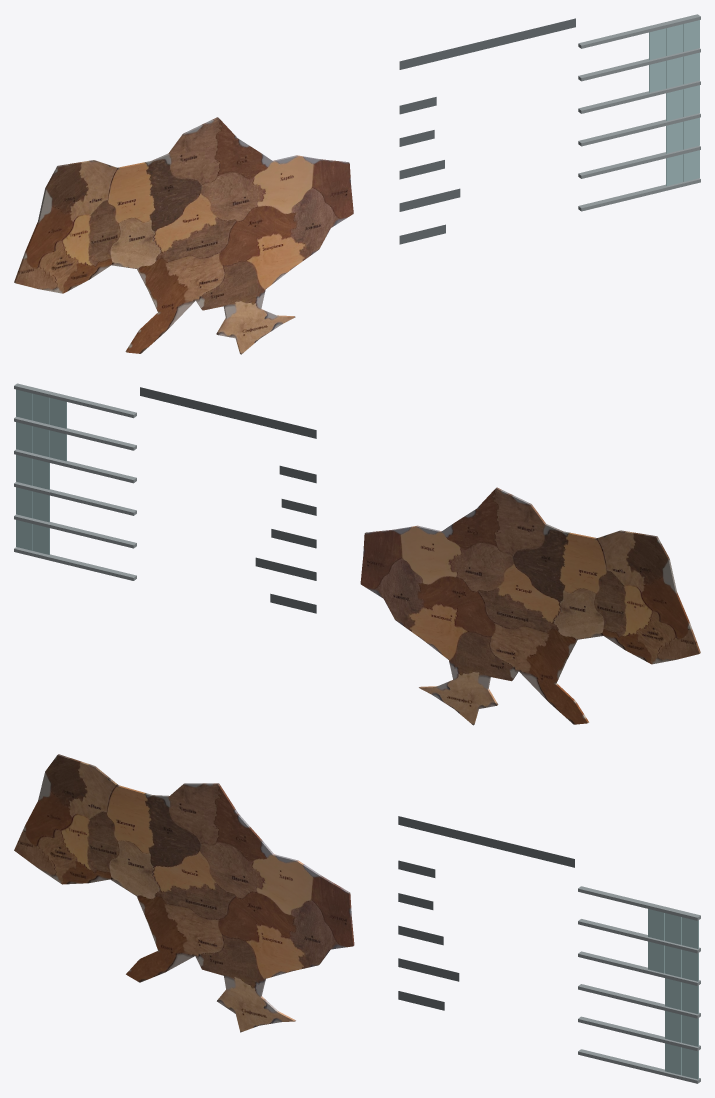
File: edsSignage-5.glb
The picture shows the model from 3 angles, top to bottom: view 1: azimuth 30°, elevation 25°; view 2: azimuth 150°, elevation 25°; view 3: azimuth 330°, elevation 25°; orthographic projection.
Visible parts, largest first — view 1: eds-ukraine/map-natural-plywood-edge, eds-ukraine/acrylic-proxy, eds-ukraine/anodized-aluminum, eds-ukraine/brushed-metal-letters; view 2: eds-ukraine/map-natural-plywood-edge, eds-ukraine/acrylic-proxy, eds-ukraine/anodized-aluminum, eds-ukraine/brushed-metal-letters; view 3: eds-ukraine/map-natural-plywood-edge, eds-ukraine/acrylic-proxy, eds-ukraine/anodized-aluminum, eds-ukraine/brushed-metal-letters.
Part boxes in pixels (x1,y1,x2,y2): eds-ukraine/map-natural-plywood-edge: (14, 117, 353, 354); eds-ukraine/acrylic-proxy: (649, 20, 699, 186); eds-ukraine/anodized-aluminum: (578, 14, 700, 211); eds-ukraine/brushed-metal-letters: (399, 18, 575, 244); eds-ukraine/map-natural-plywood-edge: (360, 487, 700, 725); eds-ukraine/acrylic-proxy: (16, 389, 66, 554); eds-ukraine/anodized-aluminum: (14, 383, 136, 580); eds-ukraine/brushed-metal-letters: (140, 387, 316, 613); eds-ukraine/map-natural-plywood-edge: (14, 754, 354, 1032); eds-ukraine/acrylic-proxy: (648, 909, 698, 1079); eds-ukraine/anodized-aluminum: (578, 886, 700, 1083); eds-ukraine/brushed-metal-letters: (398, 816, 574, 1010).
Bounding box in the file's own units: 3.15 × 1.12 × 0.026.
4 materials, 1 textured.
